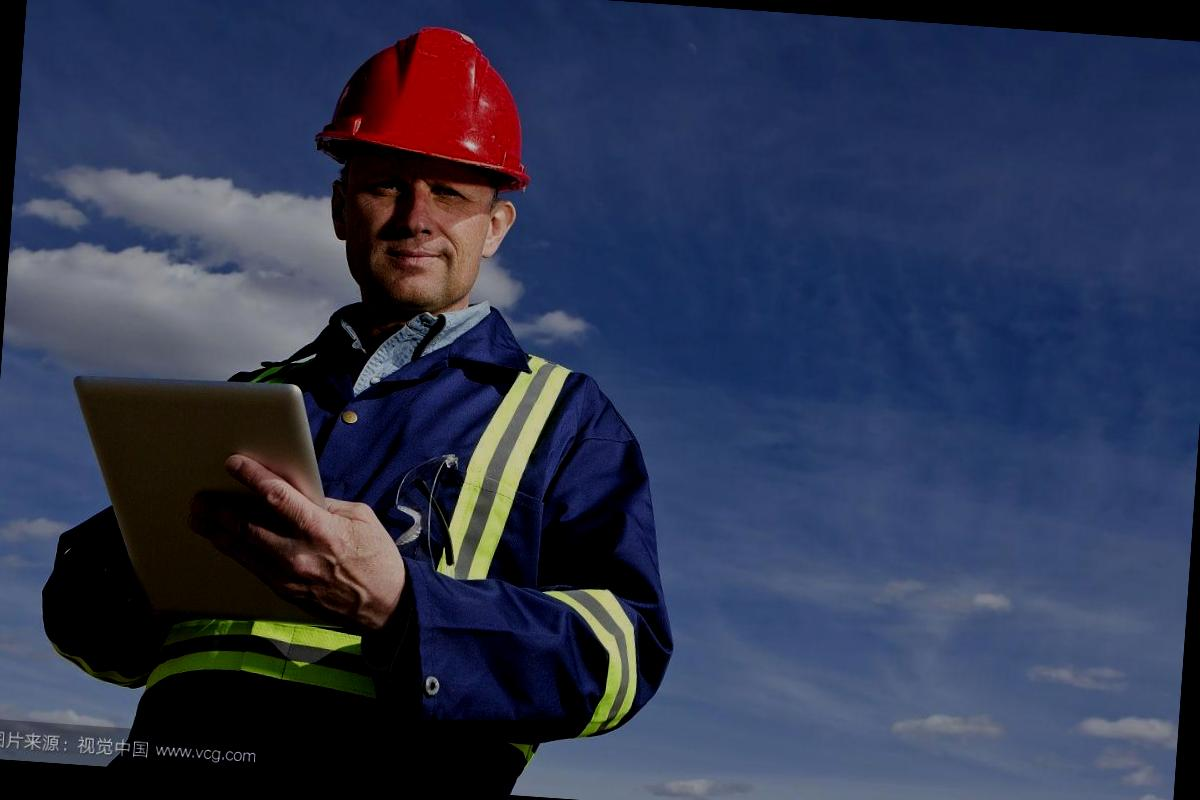helmet: (306, 12, 554, 192)
no_vest: (128, 313, 633, 742)
person: (92, 2, 660, 782)
